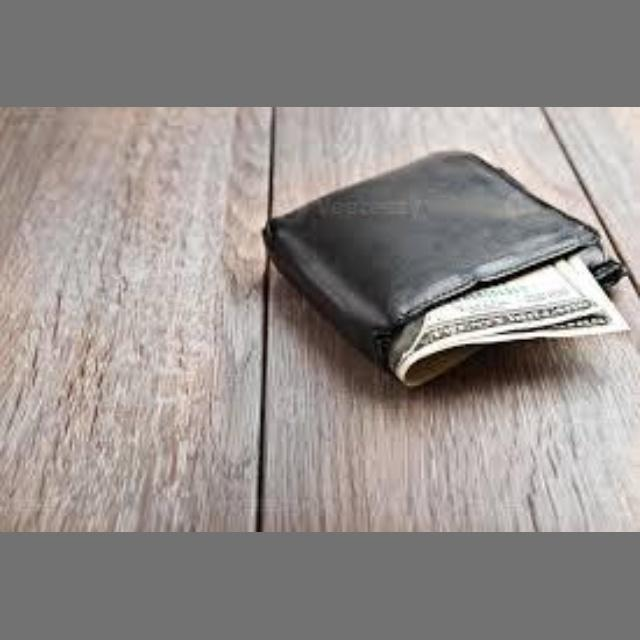Wallet: (235, 127, 640, 370)
